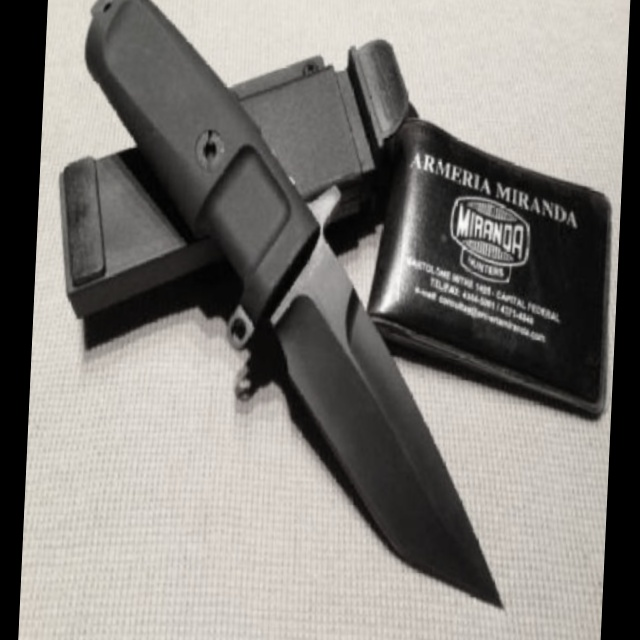Sharp-Object: (62, 0, 532, 610)
